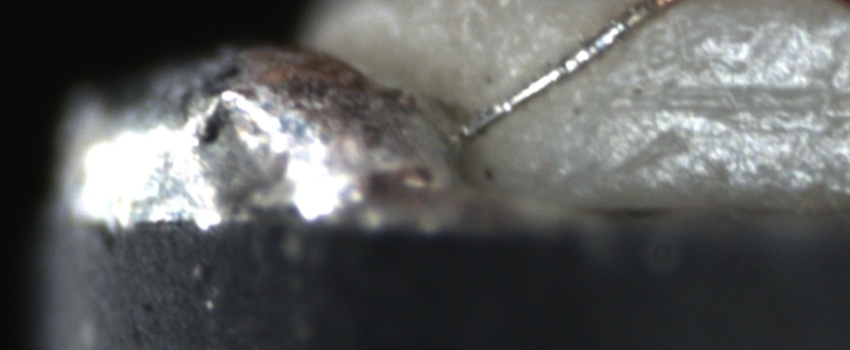DL: (567, 67, 850, 131)
TS: (456, 1, 660, 142)
